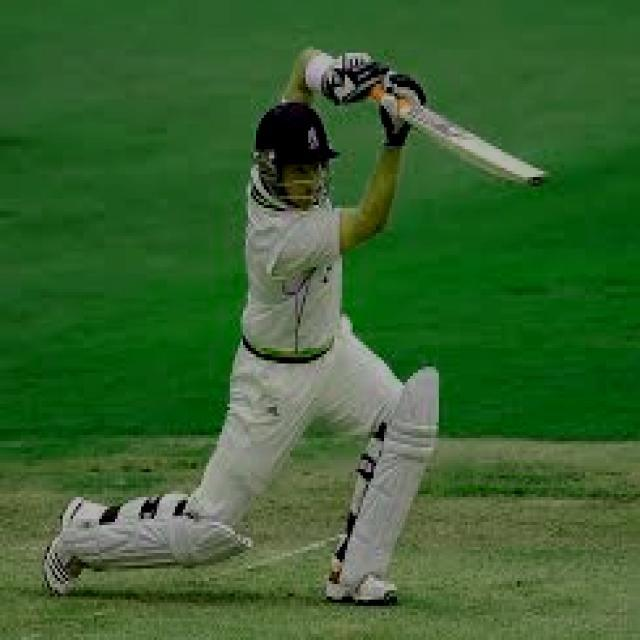bat: (389, 103, 561, 191)
toe: (519, 170, 554, 188)
